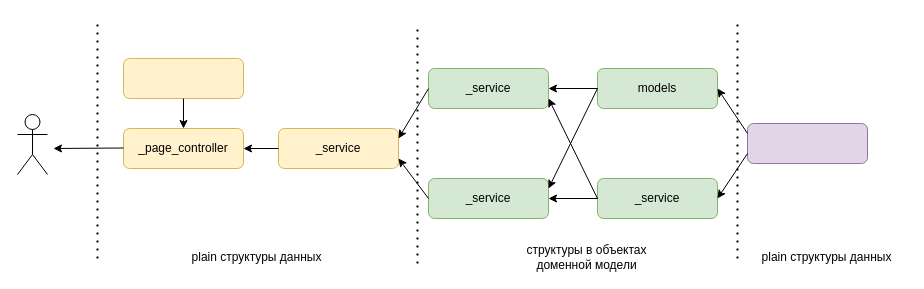
The diagram is 924 pixels wide and 289 high, and some of its shapes have lost their labels. The centre of each missing label's shape, as x and y in pixels:
Actor: the point at 32,144
data_store: the point at 807,143
template.html: the point at 183,78
